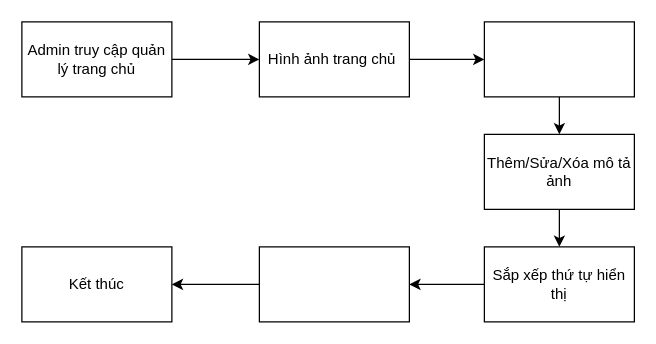
Image size: 656x344. Some labels were removed from this diagram. The box of each missing label's shape, as (x1, y1, x2, y2) in pixels:
Lưu hệ thống và cập nhật lại danh sách: (258, 246, 409, 322)
Thêm/ Xóa ảnh: (483, 21, 634, 97)
